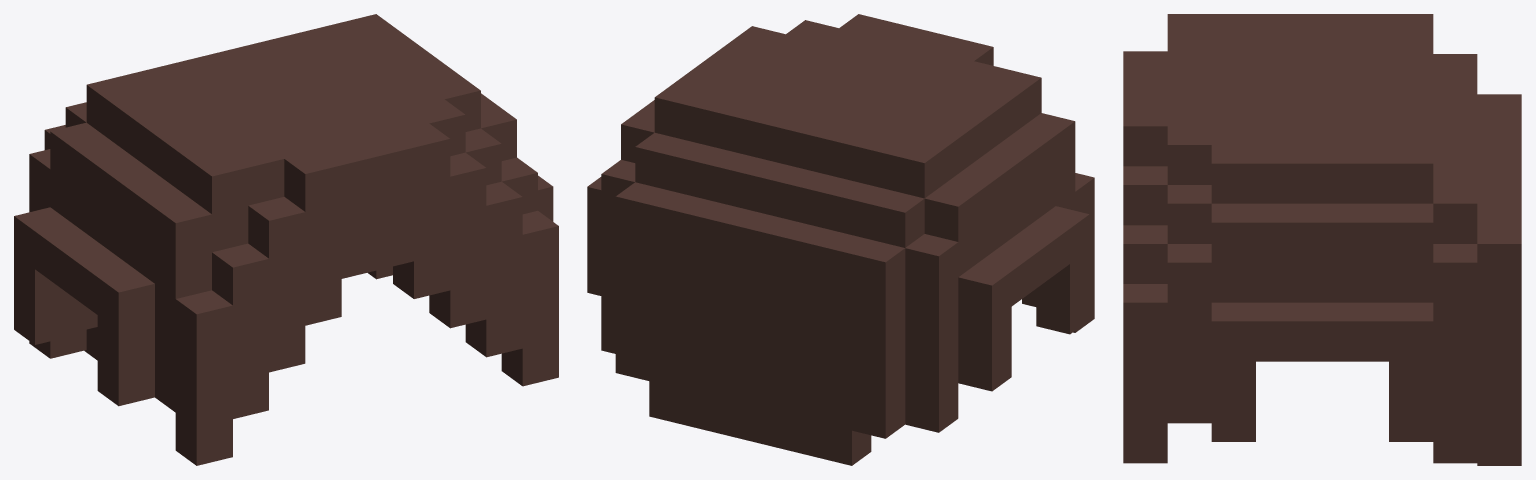
The model's file is hair_04.gltf.
3 views of the same model, side by side, from view 1: azimuth 30°, elevation 25°; view 2: azimuth 150°, elevation 25°; view 3: azimuth 270°, elevation 25° (orthographic). The views are drawn at different scales.
Visible parts, largest first — view 1: Untitled-Mesh; view 2: Untitled-Mesh; view 3: Untitled-Mesh.
Boxes of the visible parts, x1,y1,x2,y2 form: Untitled-Mesh: (14,14,558,465); Untitled-Mesh: (587,14,1094,465); Untitled-Mesh: (1123,14,1521,465).
Size of the model in its own units: 12 by 8 by 9.
Materials: 1 (1 with a texture image).
